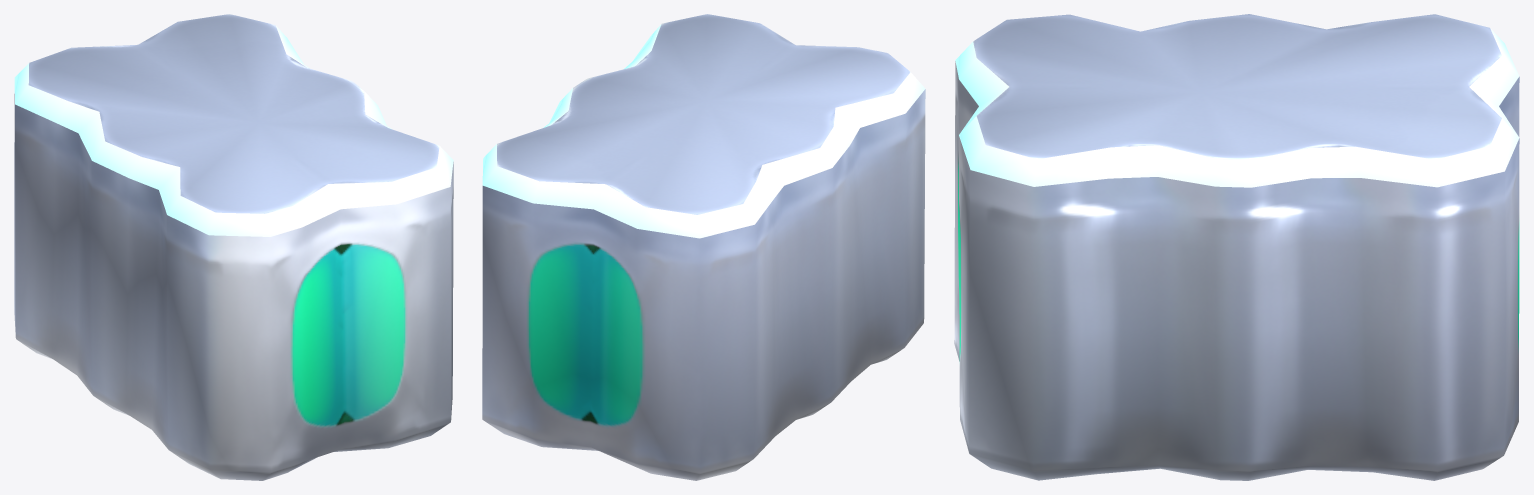
The model's file is obj_can01.gltf.
The picture shows the model from 3 angles, left to right: view 1: azimuth 30°, elevation 25°; view 2: azimuth 150°, elevation 25°; view 3: azimuth 270°, elevation 25°; orthographic projection. The views are drawn at different scales.
Visible parts, largest first — view 1: obj_can01; view 2: obj_can01; view 3: obj_can01.
Part boxes in pixels (left/top/right/bottom): obj_can01: left=14, top=14, right=453, bottom=480; obj_can01: left=482, top=14, right=925, bottom=480; obj_can01: left=954, top=14, right=1519, bottom=480.
Size of what is drawn, in the model's own units: 0.389 by 0.3671 by 0.5772.
2 materials, 1 textured.
